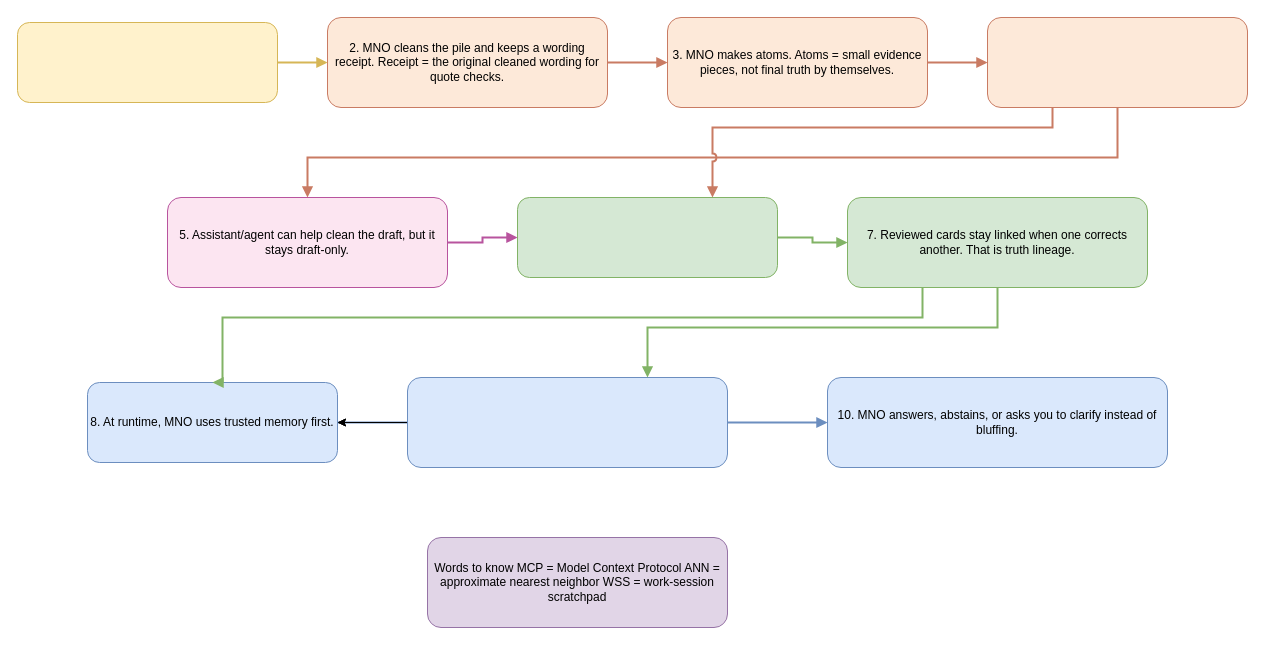
This 1265x645 diagram has some shape labels left out. The shapes that lost their labels are listed below. From the top down, each one's box as (x1, y1, x2, y2) in pixels, then its label:
(16, 22, 278, 102): 1. Give MNO your chats, files, folders, or an existing store.
(986, 16, 1248, 108): 4. MNO makes draft story cards. Draft = rough memory cards, still editable.
(516, 196, 778, 278): 6. Human decides what becomes trusted memory.
(406, 376, 728, 468): 9. If you ask for exact wording, MNO can open the wording receipt lane.
